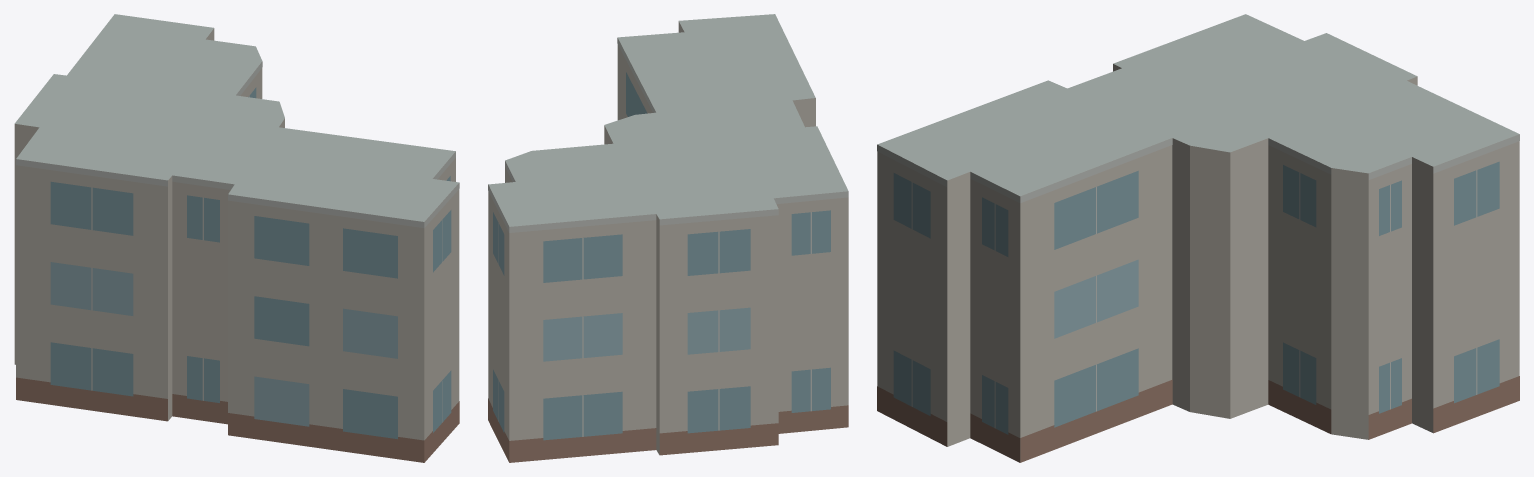
File: survey-upis-32922168.glb
3 views of the same model, side by side, from view 1: azimuth 30°, elevation 25°; view 2: azimuth 150°, elevation 25°; view 3: azimuth 270°, elevation 25° (orthographic). The views are drawn at different scales.
Visible parts, largest first — view 1: survey-upis-32922168.tmp; view 2: survey-upis-32922168.tmp; view 3: survey-upis-32922168.tmp.
Part boxes in pixels (box(x1,y1,x2,y2)): survey-upis-32922168.tmp: box(14, 14, 459, 462); survey-upis-32922168.tmp: box(488, 14, 848, 462); survey-upis-32922168.tmp: box(877, 14, 1519, 462).
Size of the model in its own units: 13.81 by 9.4 by 20.55.
